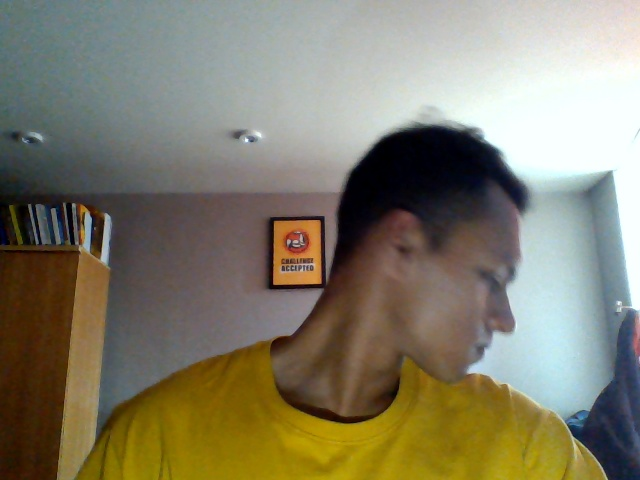no_mask: (358, 283, 524, 384)
